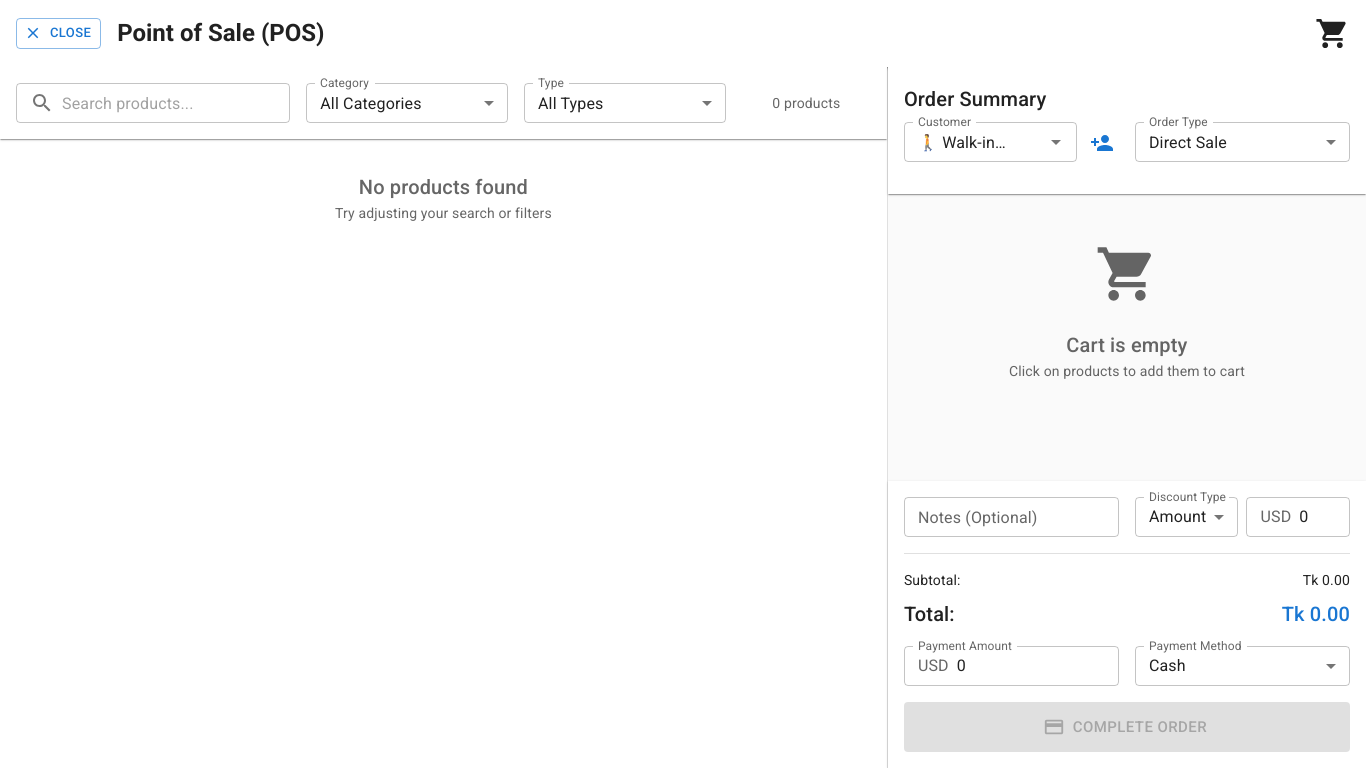
Test: POSOrderPage customer search › keeps the typed text and lists matching customers instead of snapping back to walk-in
This screenshot has width=1366, height=768.
Replace the text in the dropdown labelled "Customer" with "rah": (961, 142) [910,128,1012,156]
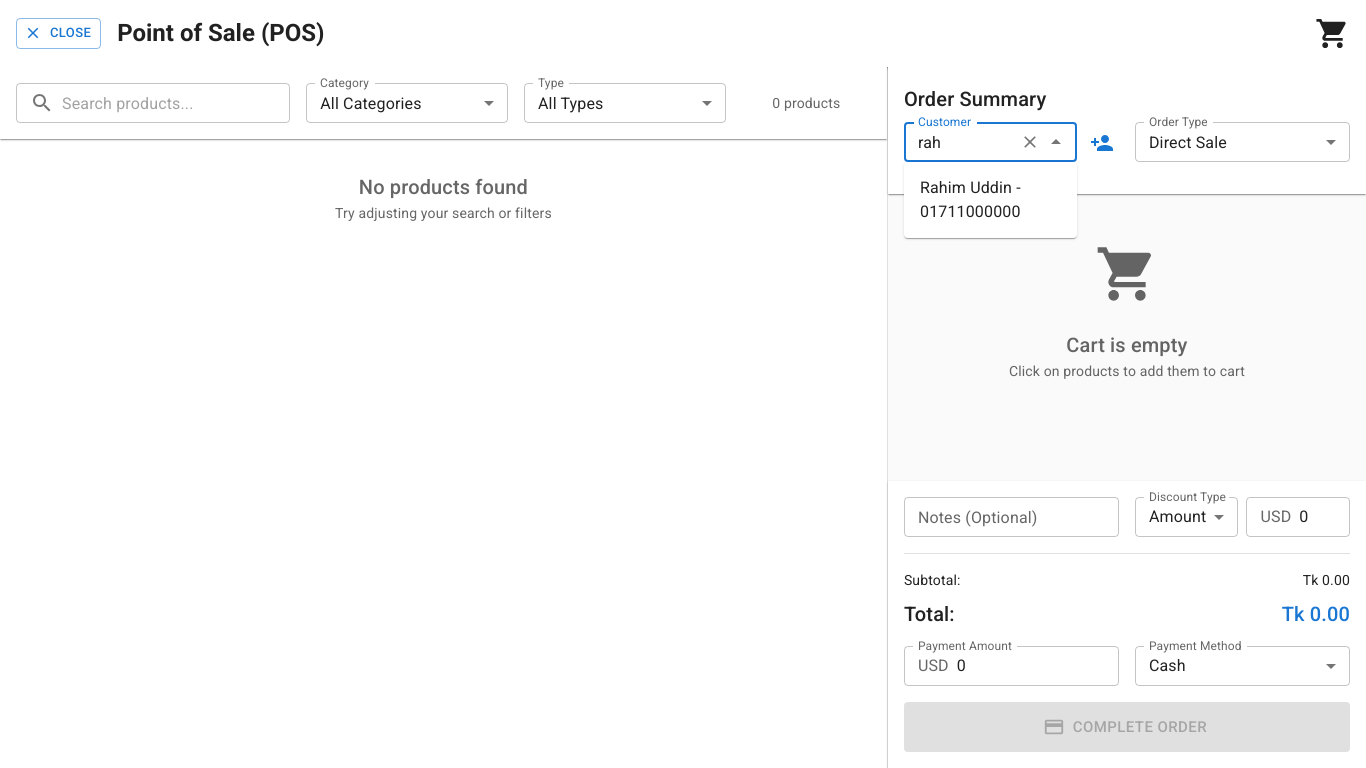
Expected: the option "Walk-in Customer" is not shown
Expected: the option "Rahim Uddin - 01711000000" is shown, [920,178,1021,221]
